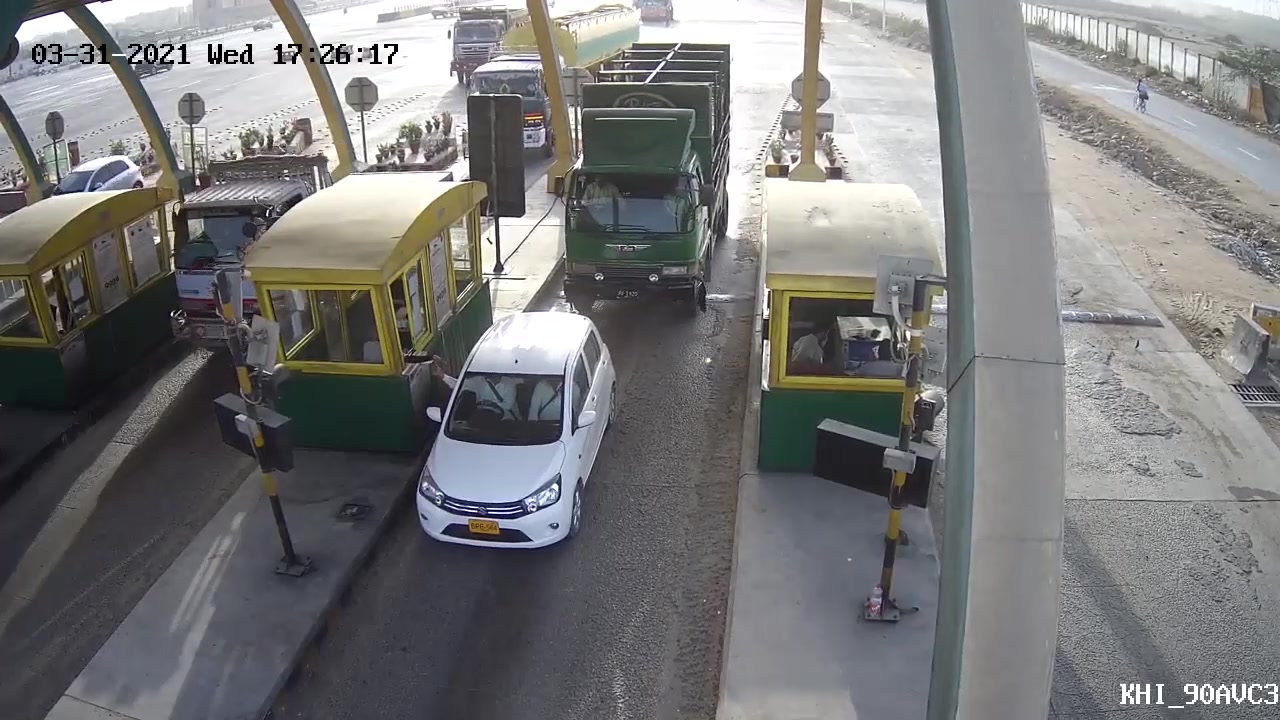F1: (407, 312, 614, 568)
F3: (560, 32, 732, 304)
